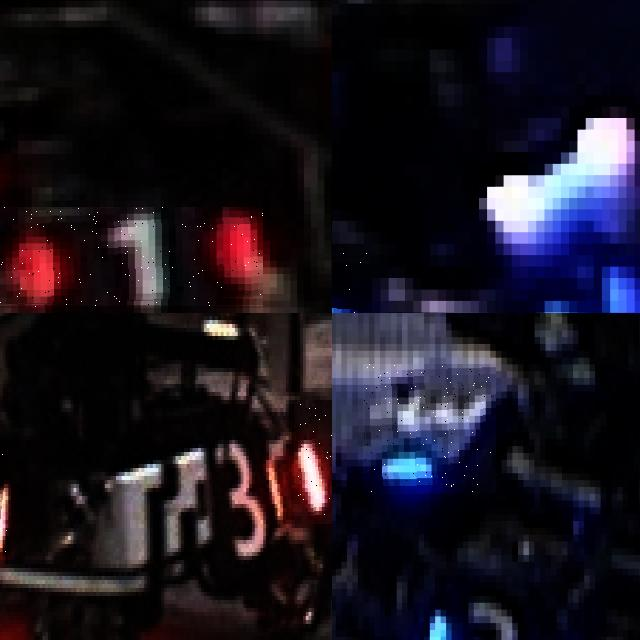B3: (363, 364, 496, 494), (418, 582, 556, 640)
R1: (0, 207, 263, 307)
R4: (294, 404, 332, 524)
